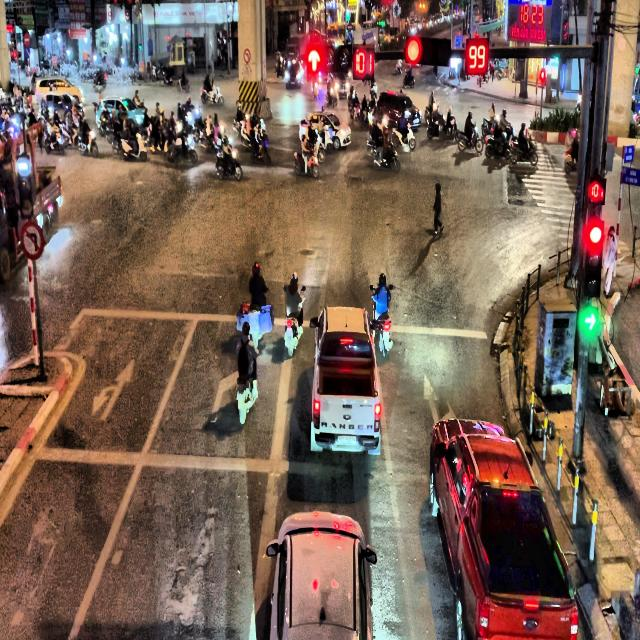CAR: (454, 482, 579, 640), (266, 510, 376, 640), (309, 305, 382, 455), (372, 90, 422, 135), (94, 97, 146, 136), (299, 112, 351, 150)
MOTORBIKE: (370, 284, 393, 357), (367, 136, 400, 172), (215, 138, 242, 181), (112, 129, 147, 161), (165, 132, 198, 165), (294, 138, 319, 178), (509, 136, 538, 166), (44, 123, 69, 154), (457, 125, 483, 154), (485, 130, 511, 159), (250, 130, 271, 165), (391, 122, 416, 151), (78, 126, 98, 157), (201, 85, 223, 105), (441, 115, 458, 140), (481, 116, 499, 139), (348, 98, 361, 121), (93, 73, 106, 91), (402, 69, 414, 88), (177, 76, 190, 92), (396, 59, 402, 75)
